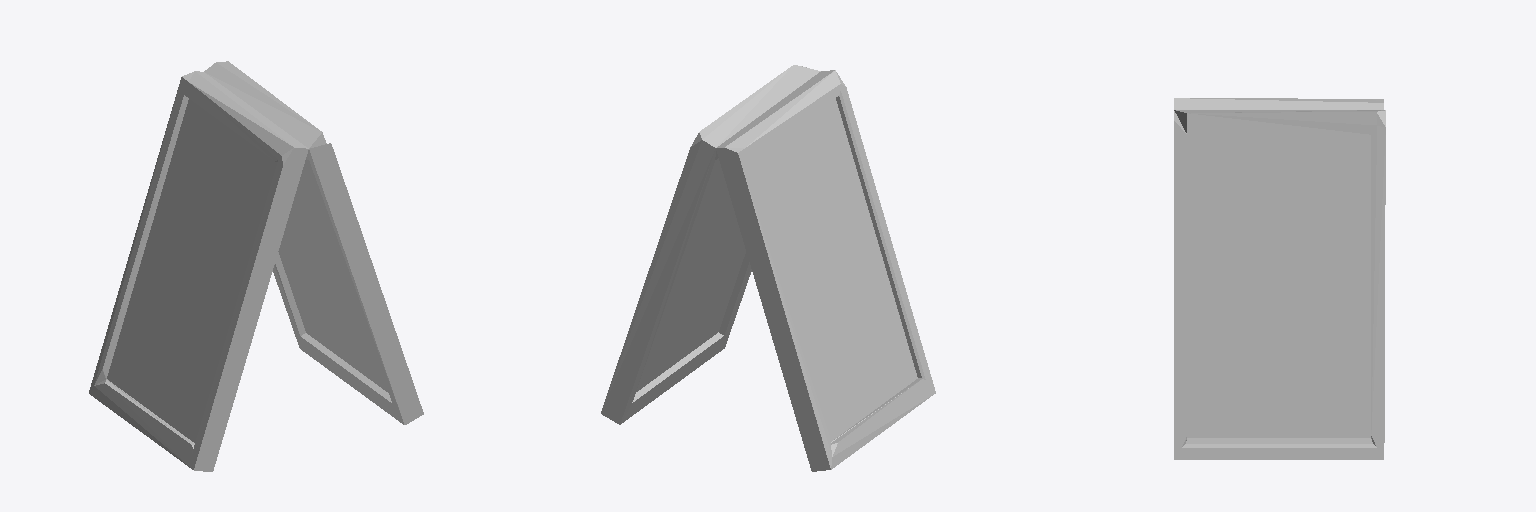
File: misc04.obj
3 renders of one model, left to right at view 1: azimuth 30°, elevation 25°; view 2: azimuth 150°, elevation 25°; view 3: azimuth 270°, elevation 25°, orthographic.
Visible parts, largest first — view 1: misc04; view 2: misc04; view 3: misc04.
Part boxes in pixels (left/top/right/bottom): misc04: left=89, top=61, right=423, bottom=471; misc04: left=601, top=65, right=935, bottom=471; misc04: left=1174, top=98, right=1385, bottom=459.
Bounding box in the file's own units: 0.0135 × 0.0173 × 0.0108.